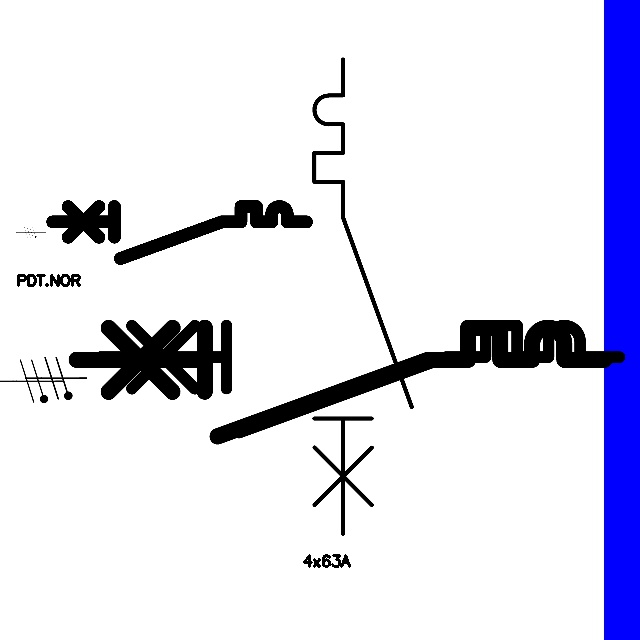interruptor_termomagnetico: (62, 314, 617, 450), (86, 312, 633, 446), (302, 47, 424, 546), (46, 200, 313, 265)
